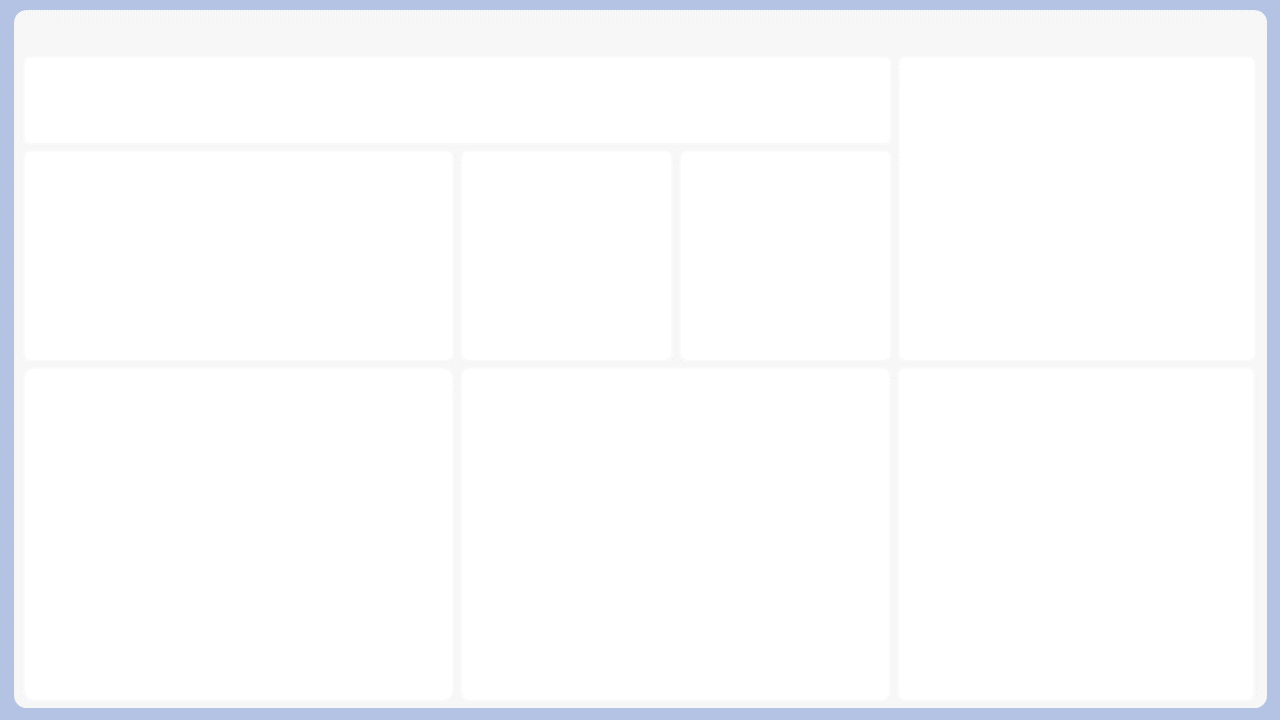

This screenshot's page, from the dashboard's own definition file:
{"tool":"powerbi","page":{"name":"Page 1","canvas":[1280,720],"ordinal":0},"visuals":[{"type":"card","fields":{"Values":["First Measure.Presence %"]},"box":[0,99,146.7,81.9],"z":0},{"type":"slicer","fields":{"Values":["Combined Data.Month"]},"box":[908.6,0,371.7,91.7],"z":1000},{"type":"card","fields":{"Values":["First Measure.WFH %"]},"box":[146.7,100.3,140.6,81.9],"z":2000},{"type":"card","fields":{"Values":["First Measure.SL %"]},"box":[299.6,100.3,132.1,81.9],"z":3000},{"type":"tableEx","fields":{"Values":["Combined Data.Name.1","First Measure.Presence %","First Measure.SL %","First Measure.WFH %"]},"box":[42.8,182.2,388.9,308.2],"z":4000},{"type":"textbox","box":[443.9,22,390.1,69.7],"z":5000},{"type":"pivotTable","fields":{"Rows":["Combined Data.Name.1"],"Values":["Min(Combined Data.Value)"],"Columns":["Combined Data.Date"]},"box":[42.8,494,388.9,226.2],"z":5001},{"type":"stackedAreaChart","fields":{"Y":["First Measure.Presence %"],"Category":["Combined Data.Date"]},"box":[461,140.6,591.9,195.7],"z":5002},{"type":"stackedAreaChart","fields":{"Y":["First Measure.WFH %"],"Category":["Combined Data.Date"]},"box":[461,336.3,591.9,174.9],"z":5003},{"type":"stackedAreaChart","fields":{"Y":["First Measure.SL %"],"Category":["Combined Data.Date"]},"box":[461,520.9,593.1,176.1],"z":5004},{"type":"tableEx","fields":{"Values":["Combined Data.Day of week","First Measure.Presence %"]},"box":[1067.5,139.4,179.8,196.9],"z":5005},{"type":"tableEx","fields":{"Values":["Combined Data.Day of week","First Measure.WFH %"]},"box":[1079.8,327.7,179.8,193.2],"z":5006},{"type":"tableEx","fields":{"Values":["Combined Data.Day of week","First Measure.SL %"]},"box":[1079.8,512.4,179.8,193.2],"z":5007}]}

Visuals, with their boxes in screenshot pixels (x1, y1, x2, y2), scaled from the page's 1280x720 canvas onto the 1280x720 screenshot:
card - First Measure.Presence %: BBox(0, 99, 147, 181)
slicer - Combined Data.Month: BBox(909, 0, 1279, 92)
card - First Measure.WFH %: BBox(147, 100, 287, 182)
card - First Measure.SL %: BBox(300, 100, 432, 182)
tableEx - Combined Data.Name.1 x First Measure.Presence %: BBox(43, 182, 432, 490)
textbox: BBox(444, 22, 834, 92)
pivotTable - Combined Data.Name.1 x Min(Combined Data.Value): BBox(43, 494, 432, 719)
stackedAreaChart - First Measure.Presence % x Combined Data.Date: BBox(461, 141, 1053, 336)
stackedAreaChart - First Measure.WFH % x Combined Data.Date: BBox(461, 336, 1053, 511)
stackedAreaChart - First Measure.SL % x Combined Data.Date: BBox(461, 521, 1054, 697)
tableEx - Combined Data.Day of week x First Measure.Presence %: BBox(1068, 139, 1247, 336)
tableEx - Combined Data.Day of week x First Measure.WFH %: BBox(1080, 328, 1260, 521)
tableEx - Combined Data.Day of week x First Measure.SL %: BBox(1080, 512, 1260, 706)
